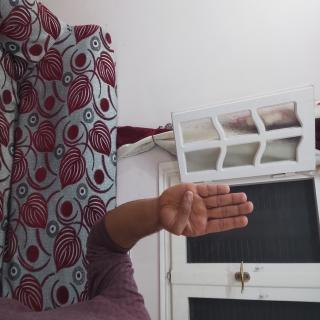KAAF: (130, 84, 185, 230)
